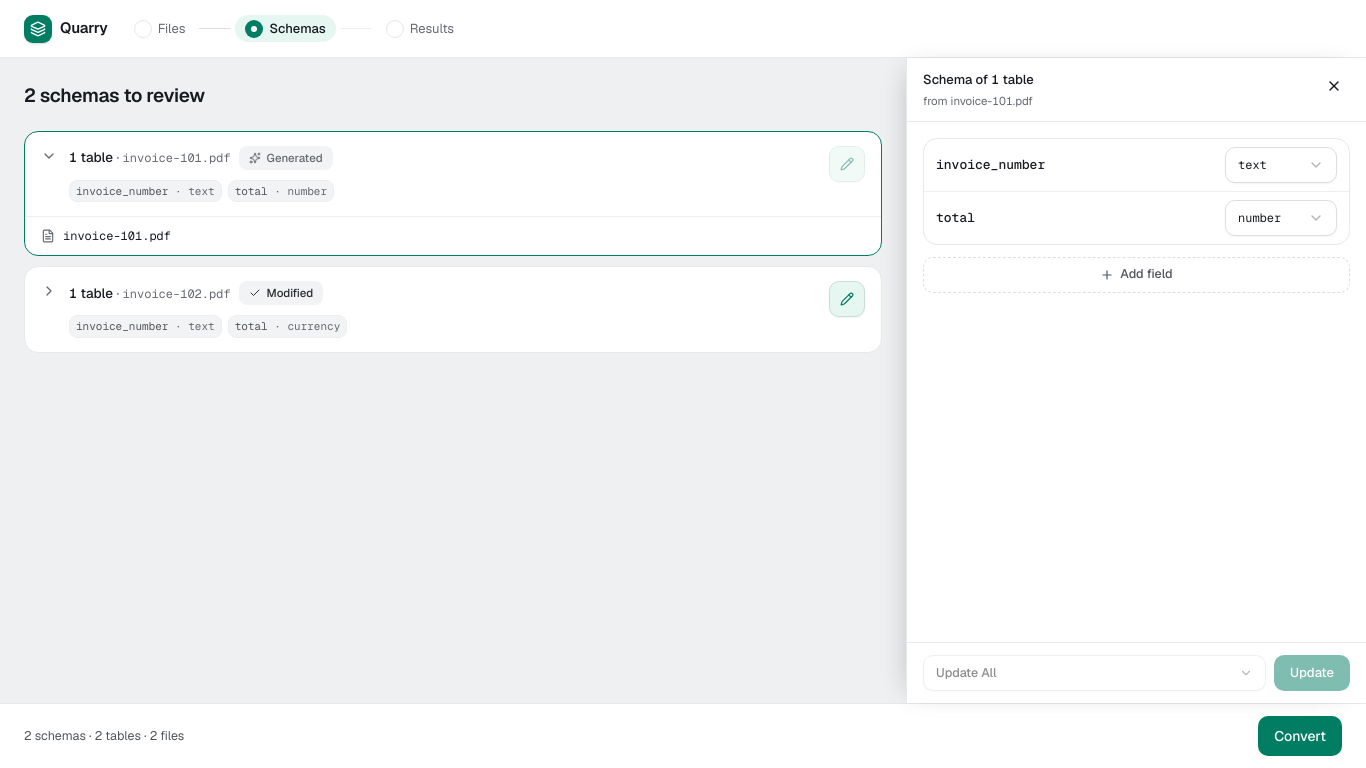
Scenario: Review schemas › says which of the three states every group is in
Check: the heading "2 schemas to review" is shown, box [24,83,205,108]
Check: the text "Generated" is shown, box [239,146,333,170]
Click the dropdown named "Type of total".
click(1281, 218)  # box [1225,200,1337,236]
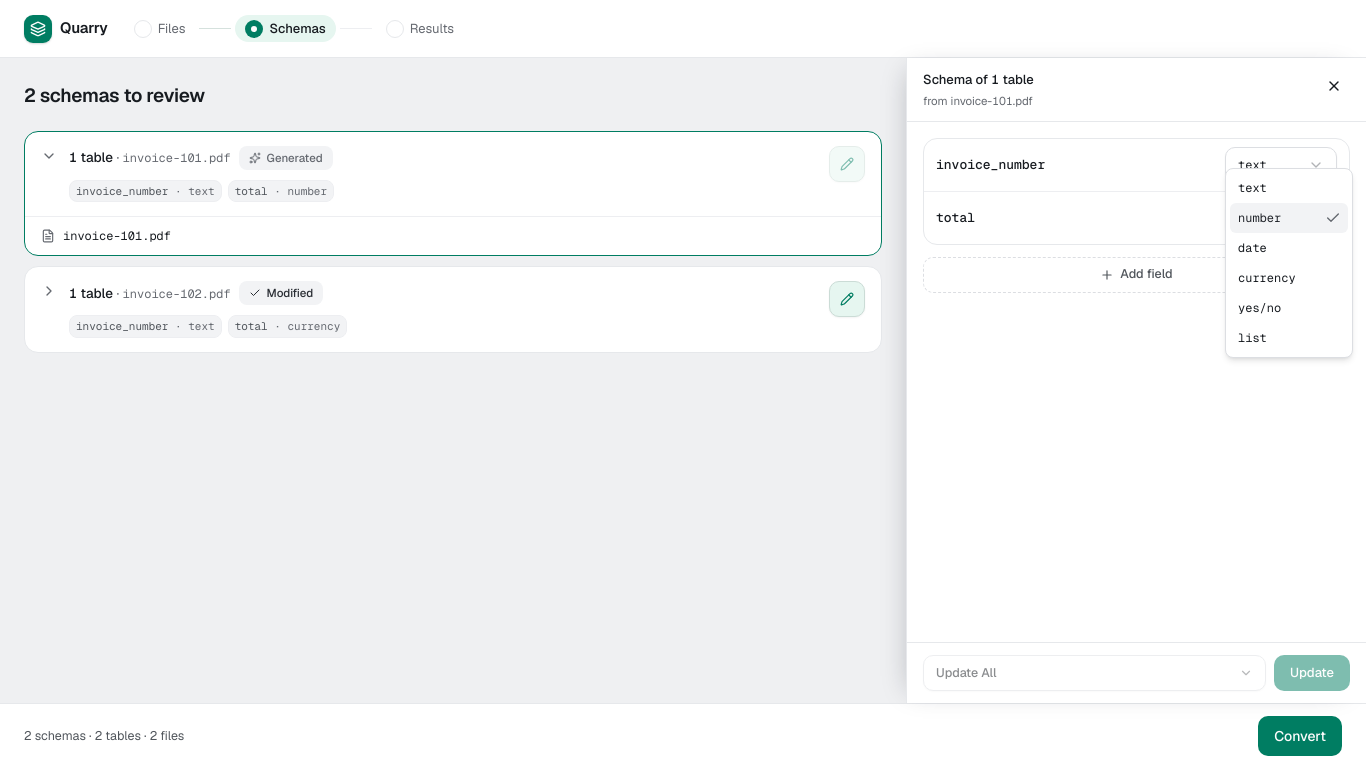
Click the option "currency".
click(1267, 278)  # box [1238,270,1296,286]
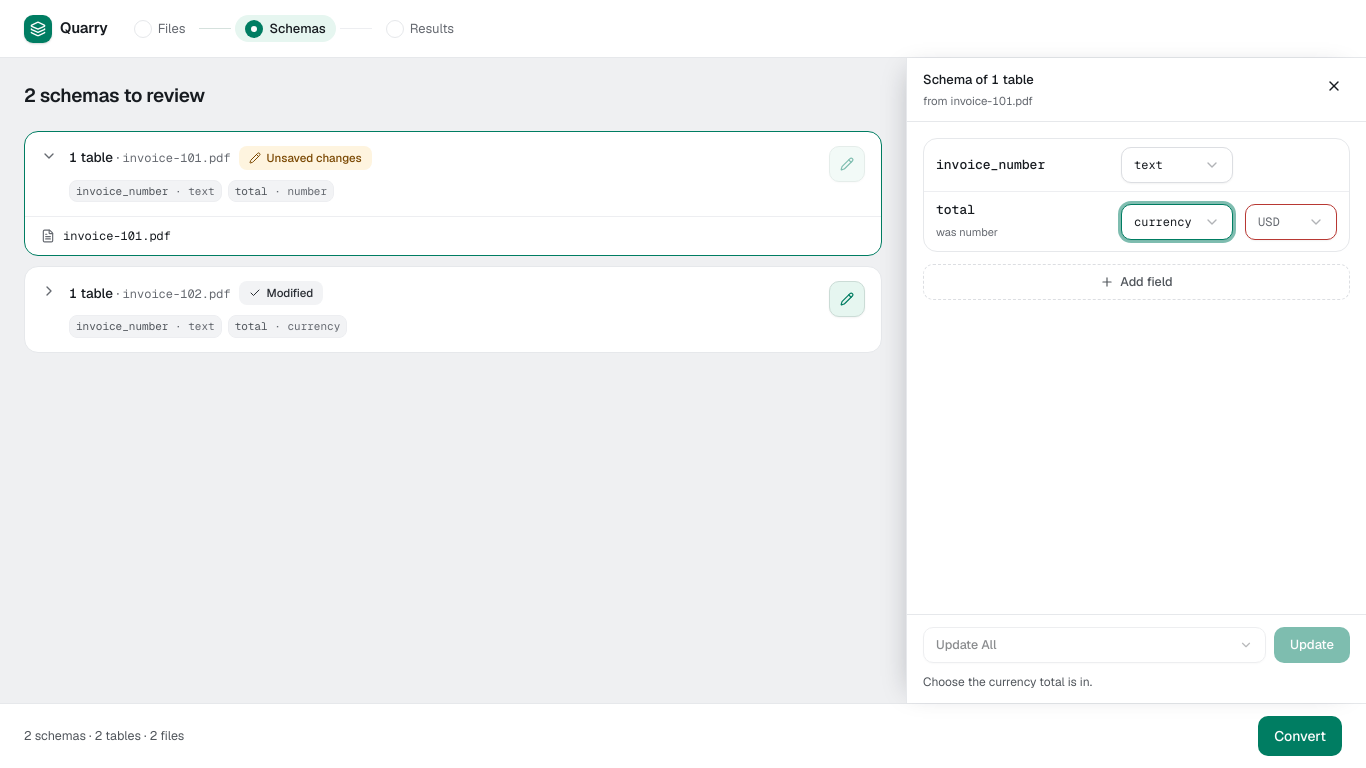
Check: the text "Unsaved changes" is shown, box [239,146,372,170]
# And it leaves with the panel it belonged to.
Click the button named "Close the schema panel".
click(1334, 86)  # box [1318,70,1350,102]
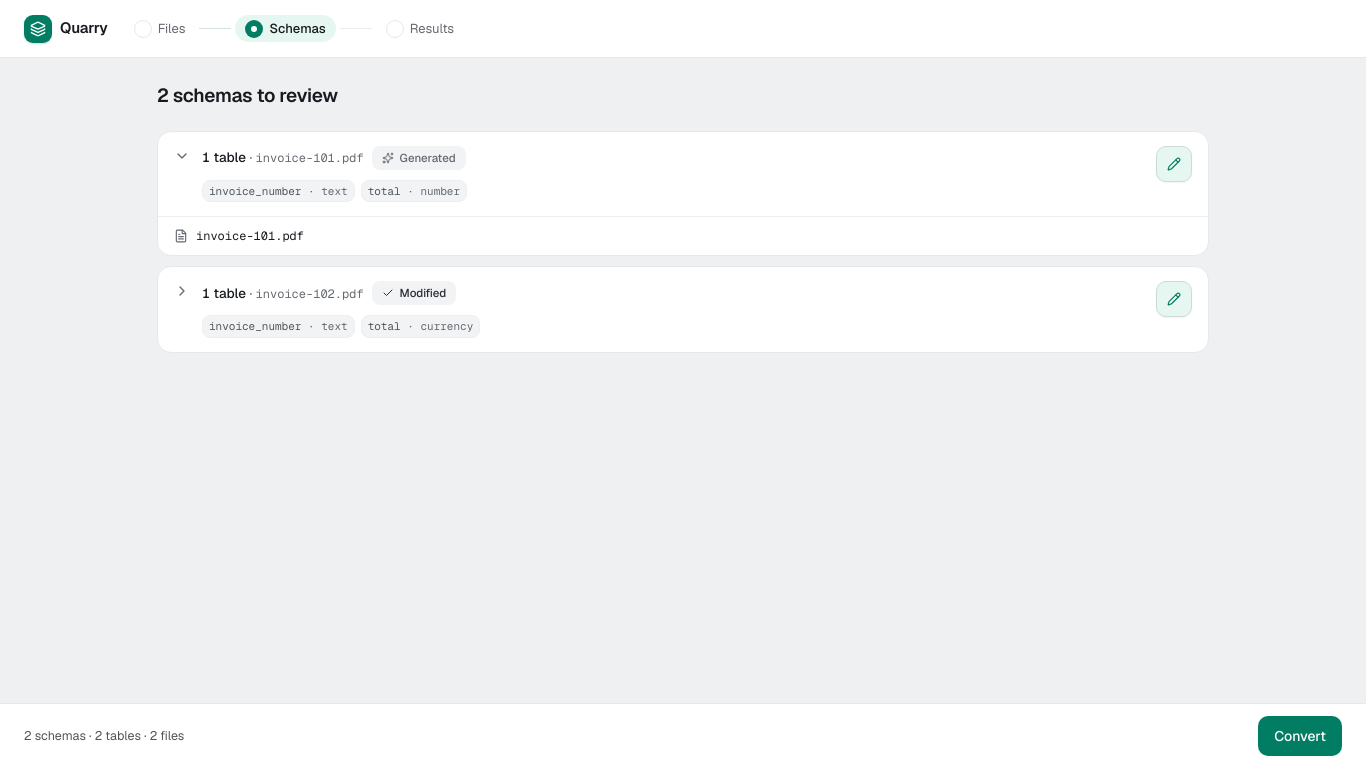
Check: the text "Generated" is shown, box [372,146,466,170]
